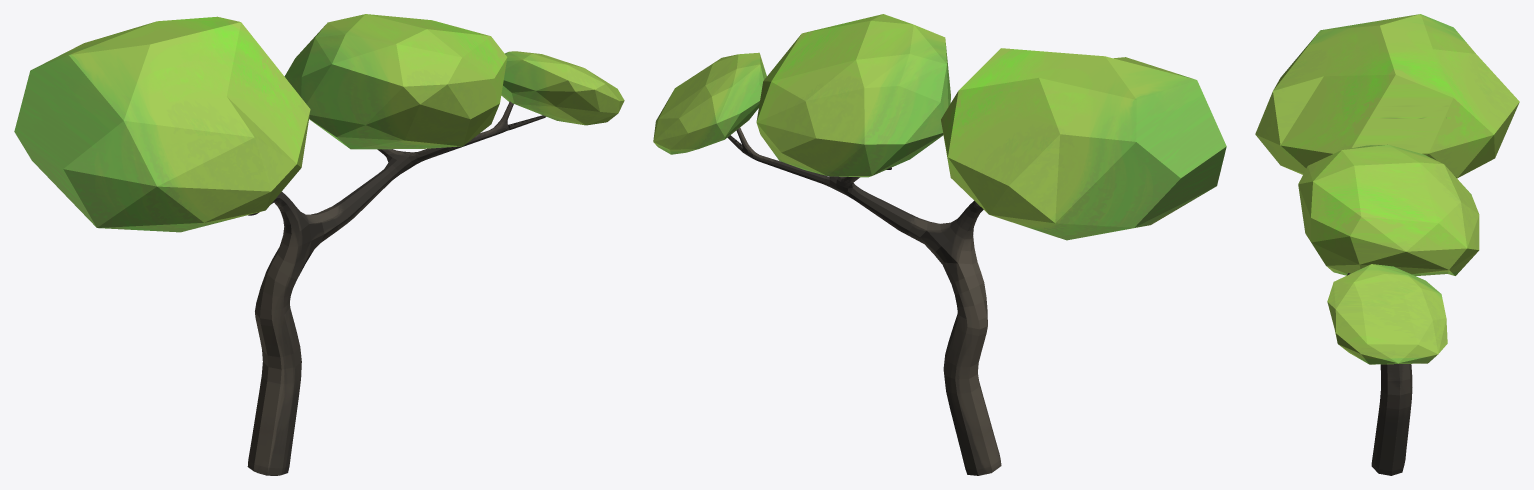
The model's file is tree2.fbx.
3 views of the same model, side by side, from view 1: azimuth 30°, elevation 25°; view 2: azimuth 150°, elevation 25°; view 3: azimuth 270°, elevation 25° (orthographic). The views are drawn at different scales.
Parts seen in each view (by area): view 1: daun.001, daun, batang, daun.002; view 2: daun.001, daun, batang, daun.002; view 3: daun.001, daun, daun.002, batang.
Part boxes in pixels (bbox=[...]): daun.001: bbox=[14, 16, 310, 232]; daun: bbox=[284, 14, 507, 149]; batang: bbox=[247, 101, 545, 475]; daun.002: bbox=[501, 51, 624, 125]; daun.001: bbox=[941, 48, 1226, 240]; daun: bbox=[756, 14, 950, 177]; batang: bbox=[727, 127, 1001, 475]; daun.002: bbox=[653, 52, 766, 154]; daun.001: bbox=[1255, 14, 1519, 178]; daun: bbox=[1298, 144, 1479, 275]; daun.002: bbox=[1327, 264, 1447, 364]; batang: bbox=[1347, 273, 1412, 475].
Size of the model in its own units: 633 by 491 by 299.
Materials: 2 (2 with a texture image).
